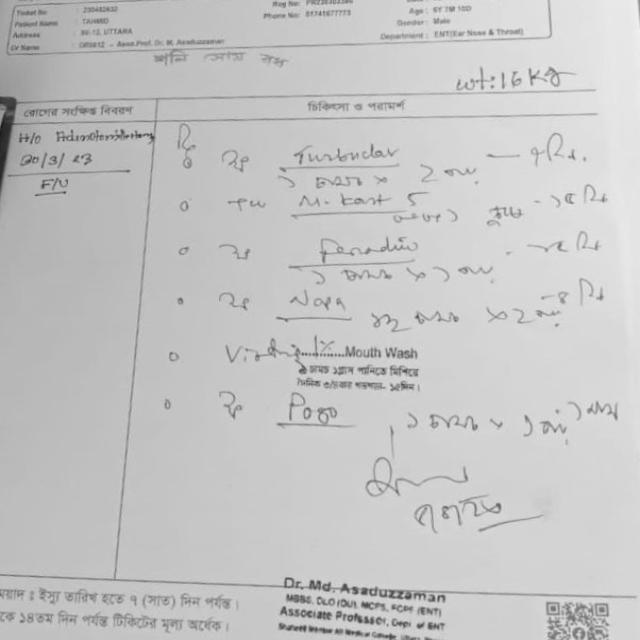medicine: (298, 224, 424, 262), (268, 136, 404, 165), (278, 282, 364, 318), (275, 390, 351, 426)
